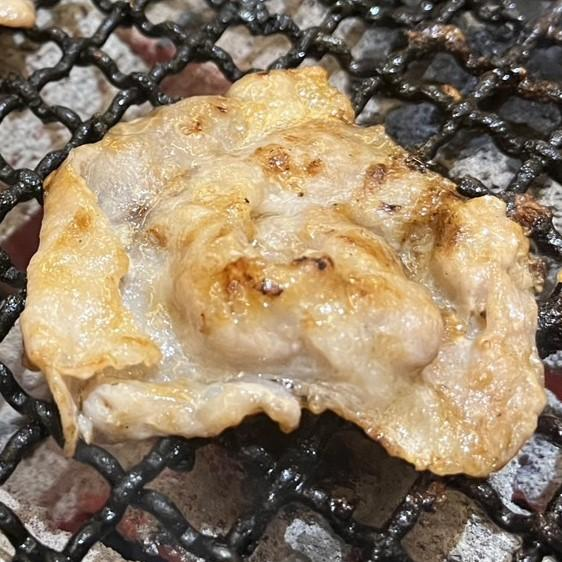Well-Cooked: (19, 67, 544, 476)
